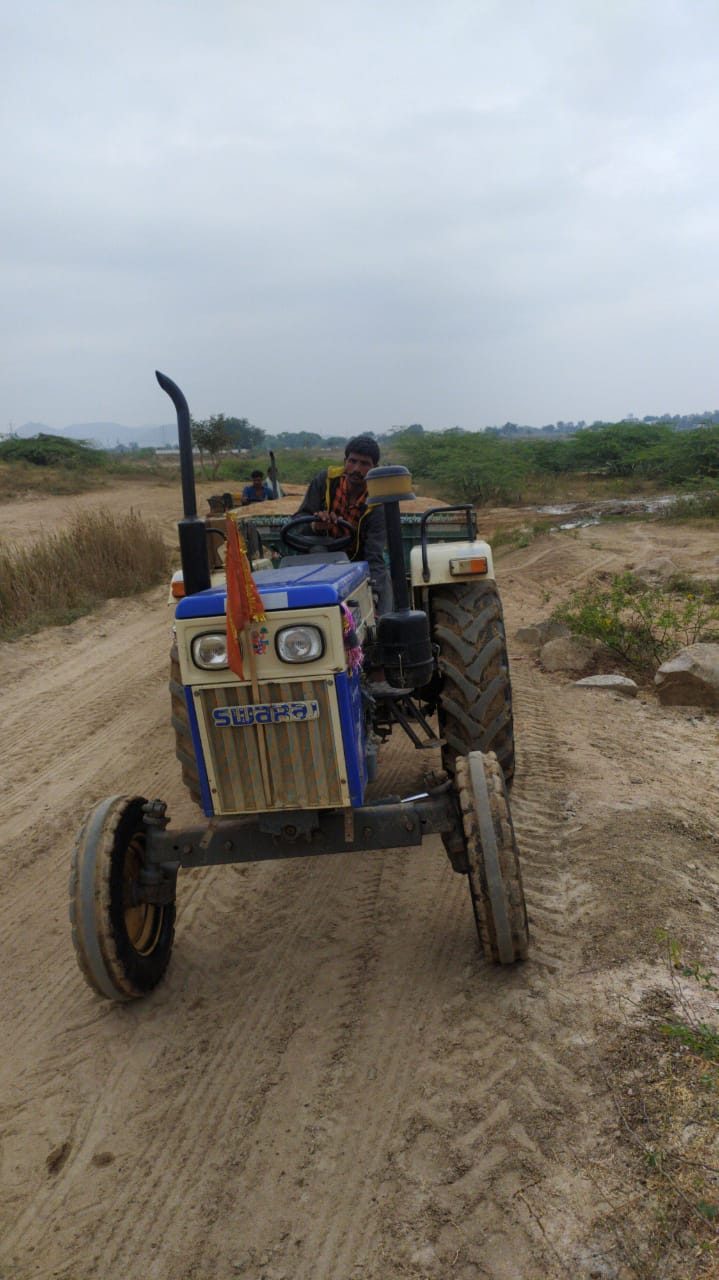license_plate: (202, 815, 374, 866)
